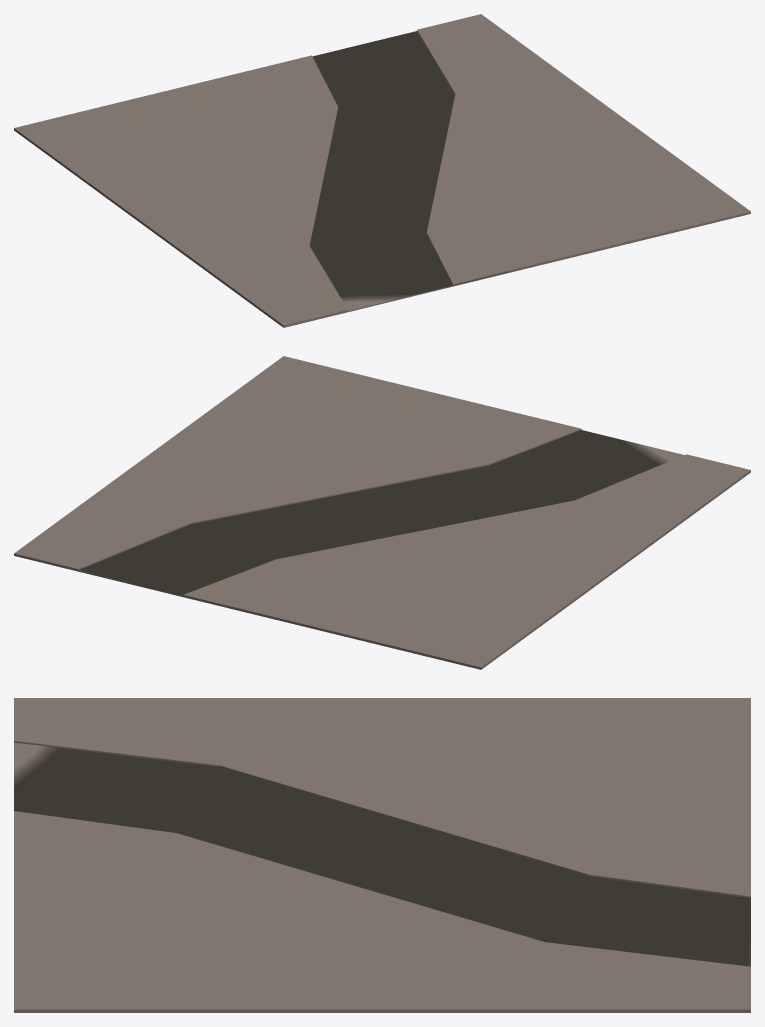
Rendered from Env_1lane_CurveB_col.fbx.
The picture shows the model from 3 angles, top to bottom: view 1: azimuth 30°, elevation 25°; view 2: azimuth 150°, elevation 25°; view 3: azimuth 270°, elevation 25°; orthographic projection. The views are drawn at different scales.
Parts seen in each view (by area): view 1: Env_1lane_CurveB_col; view 2: Env_1lane_CurveB_col; view 3: Env_1lane_CurveB_col.
Boxes of the visible parts, bbox=[...] form: Env_1lane_CurveB_col: bbox=[14, 14, 750, 327]; Env_1lane_CurveB_col: bbox=[14, 356, 750, 669]; Env_1lane_CurveB_col: bbox=[14, 698, 750, 1012].
Size of the model in its own units: 4000 by 20 by 4000.
